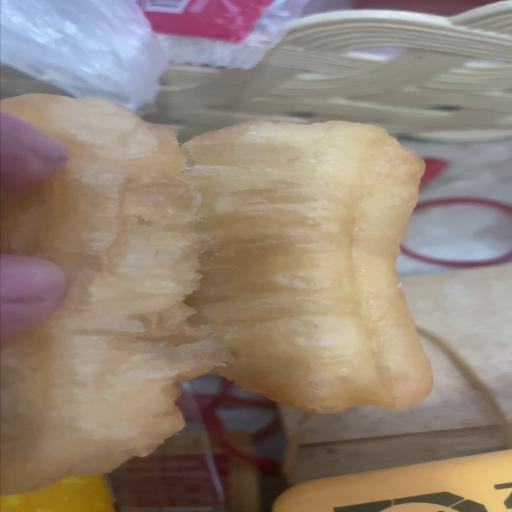street_golden_defect: (0, 116, 433, 474)
street_golden_good: (271, 449, 511, 512)
